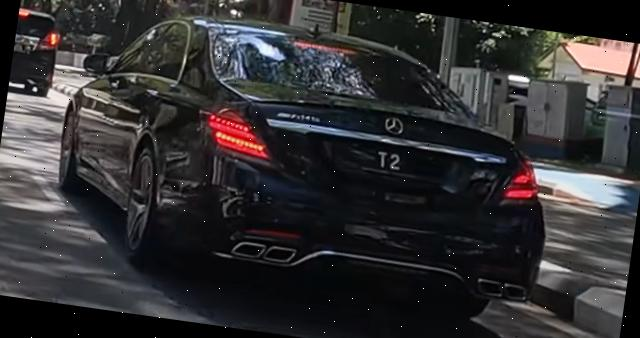License_Plate: (336, 141, 451, 184)
car: (43, 1, 571, 331)
